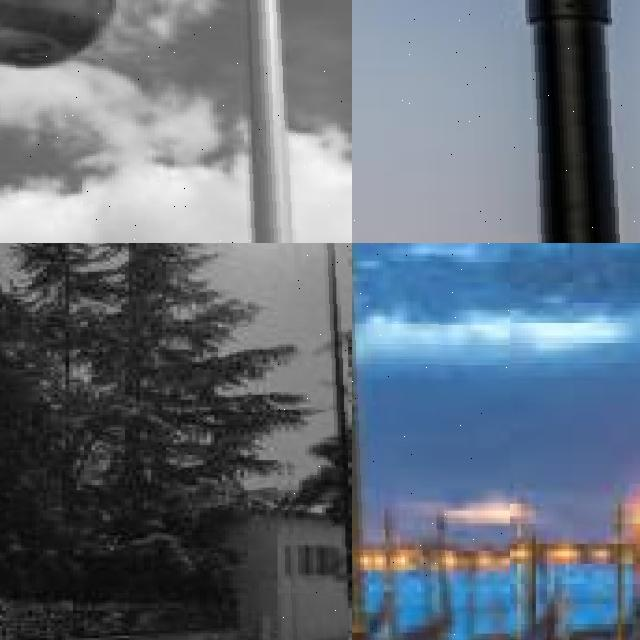street light: (0, 0, 352, 243), (352, 0, 640, 243), (352, 243, 510, 640), (277, 243, 348, 640)
